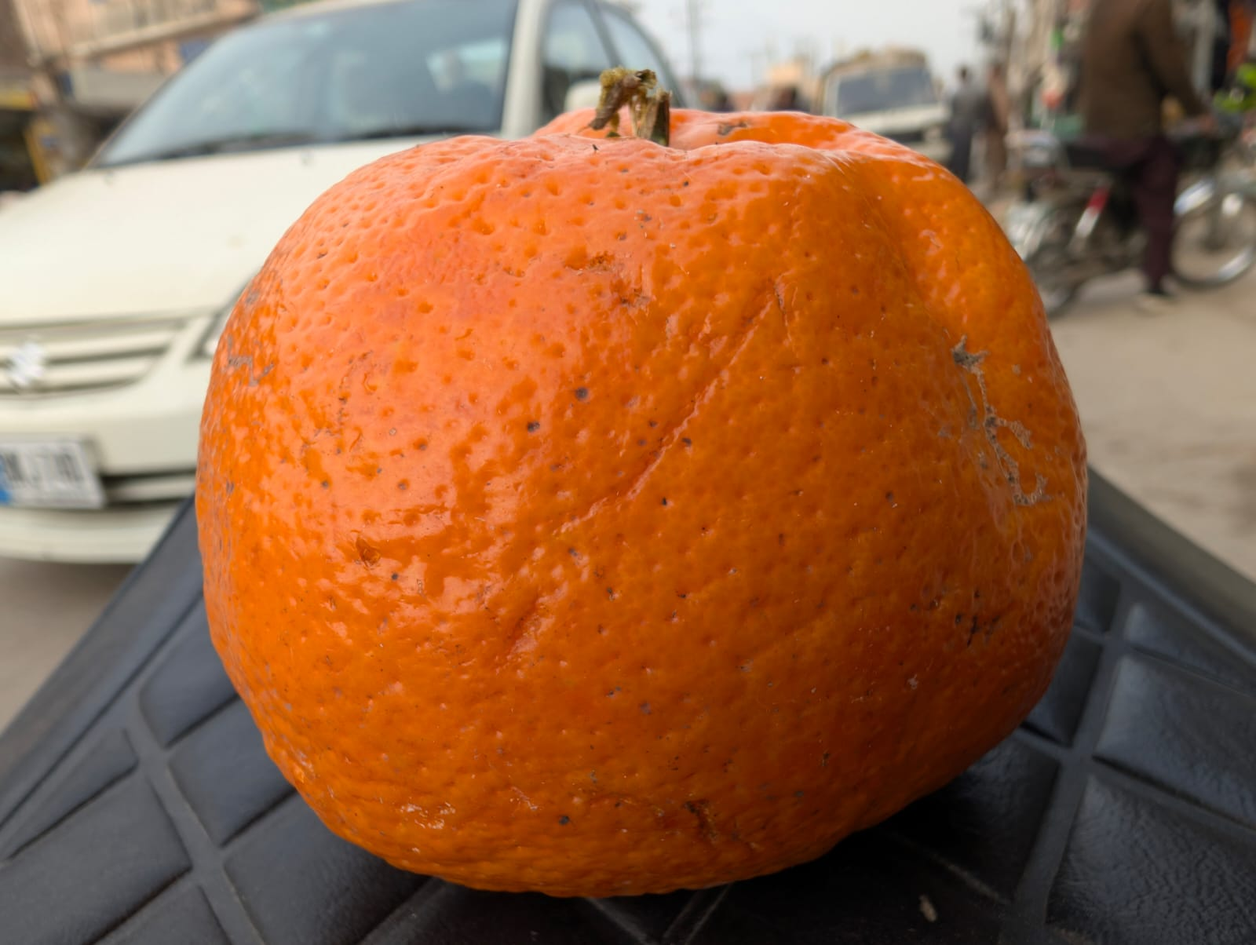orange: (151, 91, 929, 933)
